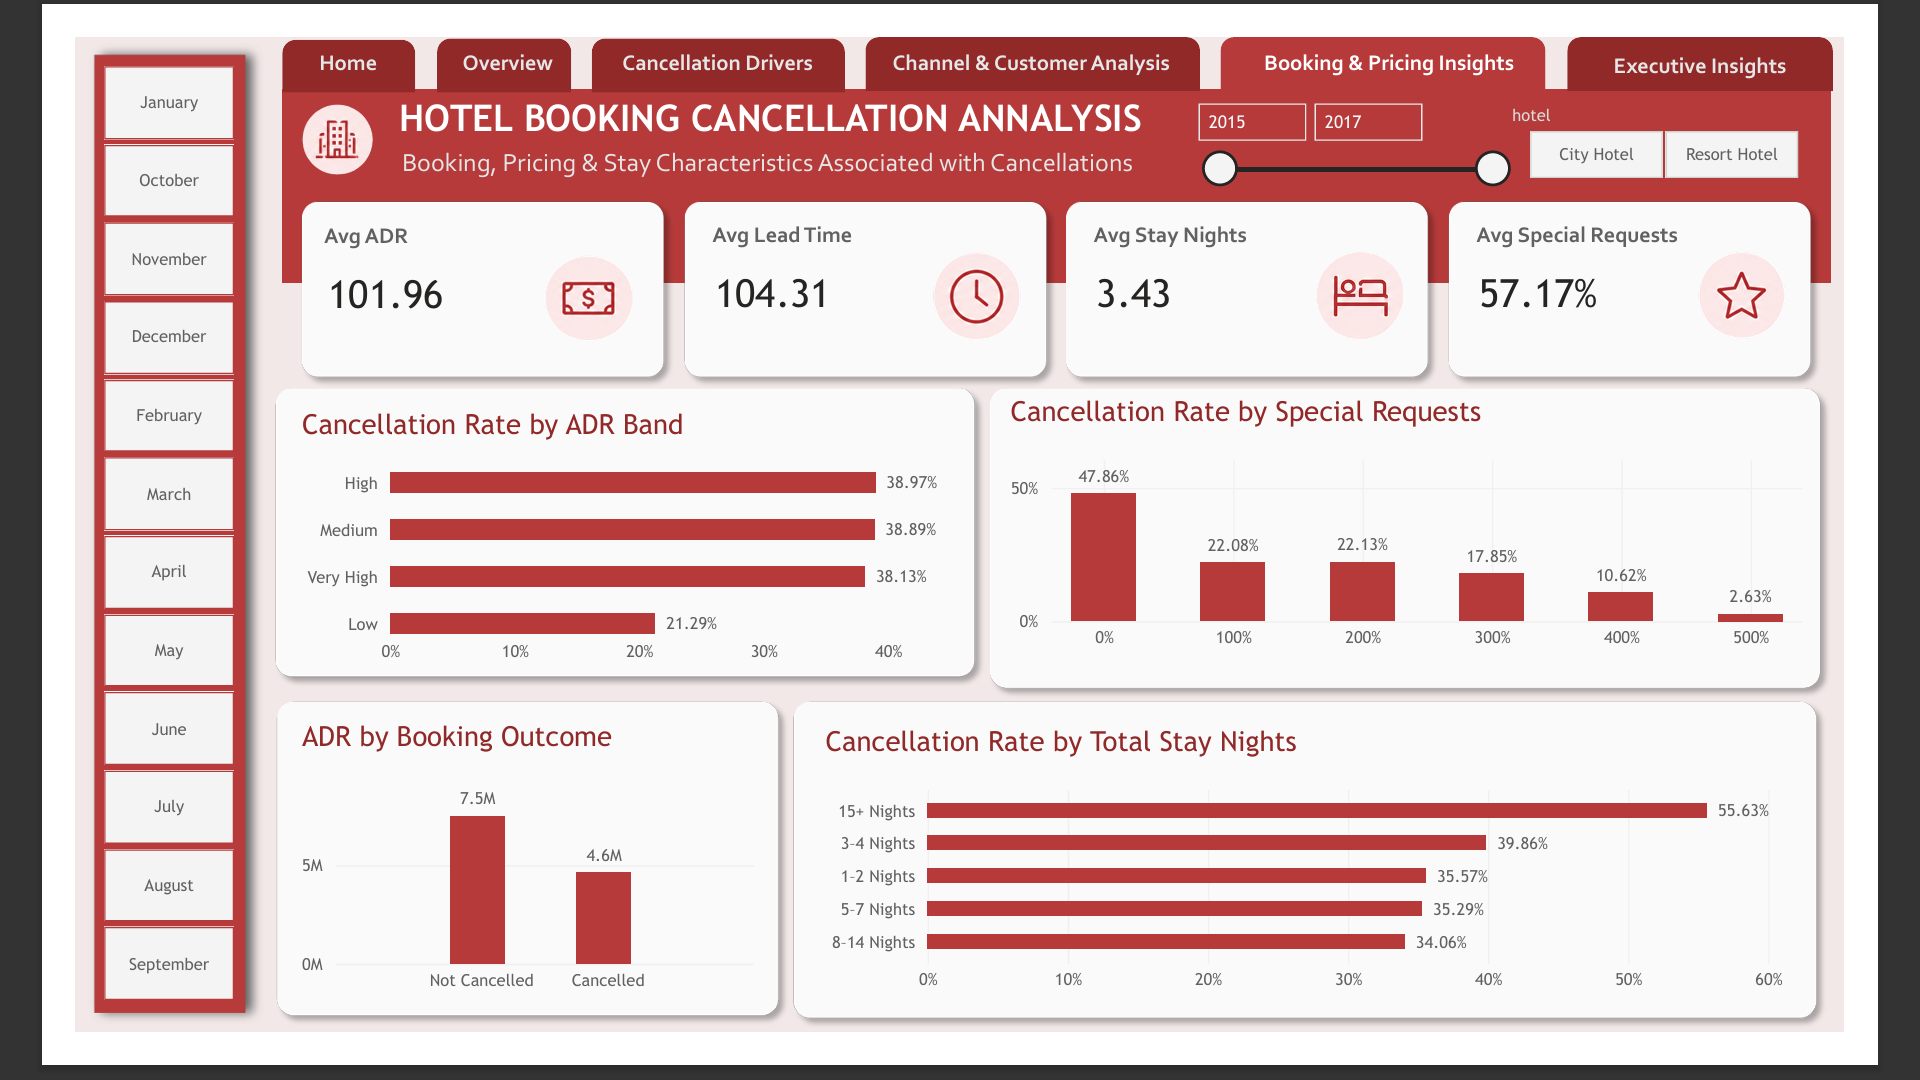

What the dashboard file says about the page in this screenshot:
{"tool":"powerbi","page":{"name":"Booking & Pricing Insights","canvas":[1280,720],"ordinal":4},"visuals":[{"type":"group","id":"g1","title":"Group 1","box":[148.4,0,1124,178.3],"z":0},{"type":"textbox","box":[148.4,9.1,99.1,27.8],"z":0,"group":"g3"},{"type":"shape","box":[150.8,38.3,1120.8,140],"z":0,"group":"g1"},{"type":"textbox","box":[200,43.4,606.4,35.1],"z":0,"group":"g2"},{"type":"shape","box":[154.6,110,280.2,145.3],"z":0,"group":"g4"},{"type":"shape","box":[1.3,0,134.5,719.3],"z":1000},{"type":"shape","box":[374.6,0.7,182.6,39],"z":1000,"group":"g1"},{"type":"textbox","box":[264.1,9.1,98,26.7],"z":1000,"group":"g3"},{"type":"textbox","box":[227.4,79.7,547.7,24.1],"z":1000,"group":"g2"},{"type":"cardVisual","title":"Total Bookings","fields":{"Data":[" Measures.Avg ADR"]},"box":[166.1,153.2,253.4,65.1],"z":1000,"group":"g4"},{"type":"shape","box":[510.9,471.9,758.3,247.4],"z":1500},{"type":"shape","box":[136.6,471.7,381.1,245],"z":1750},{"type":"shape","box":[829.9,0,234.9,39],"z":2000,"group":"g1"},{"type":"textbox","box":[379,9.1,172.5,27.8],"z":2000,"group":"g3"},{"type":"textbox","box":[179.7,133.9,228,20.5],"z":2000,"group":"g4"},{"type":"clusteredColumnChart","title":"ADR by Booking Outcome","fields":{"Category":["hotel_bookings.Booking_Status"],"Y":["Sum(hotel_bookings.adr)"]},"box":[147.7,479.6,359.6,230.4],"z":2000},{"type":"shape","box":[652.7,244.6,619.4,235],"z":2500},{"type":"shape","box":[572.7,0,241.6,39],"z":3000,"group":"g1"},{"type":"textbox","box":[580.5,9,227.1,25.6],"z":3000,"group":"g3"},{"type":"image","box":[337.9,156.1,66.4,65],"z":3000,"group":"g4"},{"type":"clusteredColumnChart","title":"Cancellation Rate by Special Requests","fields":{"Category":["hotel_bookings.total_of_special_requests"],"Y":[" Measures.Cancellation Rate"]},"box":[660.6,244.6,605.1,217.6],"z":3000},{"type":"shape","box":[135.8,244.7,524.4,227.2],"z":3500},{"type":"shape","box":[262.2,0.6,96.8,39],"z":4000,"group":"g1"},{"type":"textbox","box":[849.9,9,203.7,23.4],"z":4000,"group":"g3"},{"type":"clusteredBarChart","title":"Cancellation Rate by ADR Band","fields":{"Category":["hotel_bookings.ADR_band"],"Y":[" Measures.Cancellation Rate"]},"box":[147.7,254.1,501.8,217.6],"z":4000},{"type":"shape","box":[1080.4,0.3,192,39],"z":5000,"group":"g1"},{"type":"shape","box":[150.8,2.1,95.7,37.8],"z":6000,"group":"g1"},{"type":"barChart","title":"Cancellation Rate by Total Stay Nights","fields":{"Y":[" Measures.Cancellation Rate"],"Category":["hotel_bookings.Stay Length Group"]},"box":[527.1,484,724.7,224.5],"z":6000},{"type":"slicer","fields":{"Values":["hotel_bookings.arrival_date_month"]},"box":[0,18.8,134.5,680.3],"z":7000},{"type":"group","id":"g2","title":"Group 3","box":[200,43.4,606.4,60.4],"z":7000,"group":"g1"},{"type":"group","id":"g3","title":"Group 5","box":[148.4,9,905.2,28],"z":8000,"group":"g1"},{"type":"slicer","fields":{"Values":["hotel_bookings.hotel"]},"box":[1032.3,50.1,234,54.3],"z":8000},{"type":"textbox","box":[1105.2,10.6,142.4,25.3],"z":9000,"group":"g1"},{"type":"slicer","fields":{"Values":["hotel_bookings.arrival_date_year"]},"box":[804.7,43.4,237.7,67.6],"z":9000},{"type":"group","id":"g4","title":"Group 2","box":[154.6,110,280.2,145.3],"z":10000},{"type":"group","id":"g5","title":"Group 2","box":[431.6,110,279.7,143.9],"z":11000},{"type":"group","id":"g6","title":"Group 2","box":[708,110,279.7,143.9],"z":12000},{"type":"group","id":"g7","title":"Group 2","box":[984.5,110,279.7,145.2],"z":13000},{"type":"image","box":[164.1,43.4,51.9,61.5],"z":13001},{"type":"shape","box":[431.6,110,279.9,144.8],"z":15000,"group":"g5"},{"type":"shape","box":[708,110,279.9,144.8],"z":15000,"group":"g6"},{"type":"shape","box":[984.5,110,279.9,144.8],"z":15000,"group":"g7"},{"type":"cardVisual","title":"Total Bookings","fields":{"Data":[" Measures.Avg Lead Time"]},"box":[447,152.2,253.4,65.1],"z":16000,"group":"g5"},{"type":"cardVisual","title":"Total Bookings","fields":{"Data":[" Measures.Avg Stay Nights"]},"box":[723.4,152.2,253.4,65.1],"z":16000,"group":"g6"},{"type":"cardVisual","title":"Total Bookings","fields":{"Data":["Avg(hotel_bookings.total_of_special_requests)"]},"box":[999.9,152.2,253.4,65.1],"z":16000,"group":"g7"},{"type":"textbox","box":[460.6,132.9,228,20.5],"z":17000,"group":"g5"},{"type":"textbox","box":[737,132.9,228,20.5],"z":17000,"group":"g6"},{"type":"textbox","box":[1013.5,132.9,228,20.5],"z":17000,"group":"g7"},{"type":"image","box":[1171.4,154.4,67.2,64.5],"z":18000,"group":"g7"},{"type":"image","box":[618.8,155.1,66.4,65],"z":18000,"group":"g5"},{"type":"image","box":[895.2,155.1,66.4,65],"z":18000,"group":"g6"}]}

Visuals, with their boxes in screenshot pixels (x1, y1, x2, y2), scaled from the page's 1280x720 canvas onto the 1920x1080 screenshot:
"Group 1" group: 223/0/1909/267
textbox: 223/14/371/55
shape: 226/57/1907/267
textbox: 300/65/1210/118
shape: 232/165/652/383
shape: 2/0/204/1079
shape: 562/1/836/60
textbox: 396/14/543/54
textbox: 341/120/1163/156
"Total Bookings" cardVisual: 249/230/629/327
shape: 766/708/1904/1079
shape: 205/708/777/1075
shape: 1245/0/1597/58
textbox: 568/14/827/55
textbox: 270/201/612/232
"ADR by Booking Outcome" clusteredColumnChart: 222/719/761/1065
shape: 979/367/1908/719
shape: 859/0/1221/58
textbox: 871/14/1211/52
image: 507/234/606/332
"Cancellation Rate by Special Requests" clusteredColumnChart: 991/367/1899/693
shape: 204/367/990/708
shape: 393/1/538/59
textbox: 1275/14/1580/49
"Cancellation Rate by ADR Band" clusteredBarChart: 222/381/974/708
shape: 1621/0/1909/59
shape: 226/3/370/60
"Cancellation Rate by Total Stay Nights" barChart: 791/726/1878/1063
slicer - hotel_bookings.arrival_date_month: 0/28/202/1049
"Group 3" group: 300/65/1210/156
"Group 5" group: 223/14/1580/56
slicer - hotel_bookings.hotel: 1548/75/1899/157
textbox: 1658/16/1871/54
slicer - hotel_bookings.arrival_date_year: 1207/65/1564/166
"Group 2" group: 232/165/652/383
"Group 2" group: 647/165/1067/381
"Group 2" group: 1062/165/1482/381
"Group 2" group: 1477/165/1896/383
image: 246/65/324/157
shape: 647/165/1067/382
shape: 1062/165/1482/382
shape: 1477/165/1897/382
"Total Bookings" cardVisual: 670/228/1051/326
"Total Bookings" cardVisual: 1085/228/1465/326
"Total Bookings" cardVisual: 1500/228/1880/326
textbox: 691/199/1033/230
textbox: 1106/199/1448/230
textbox: 1520/199/1862/230
image: 1757/232/1858/328
image: 928/233/1028/330
image: 1343/233/1442/330
